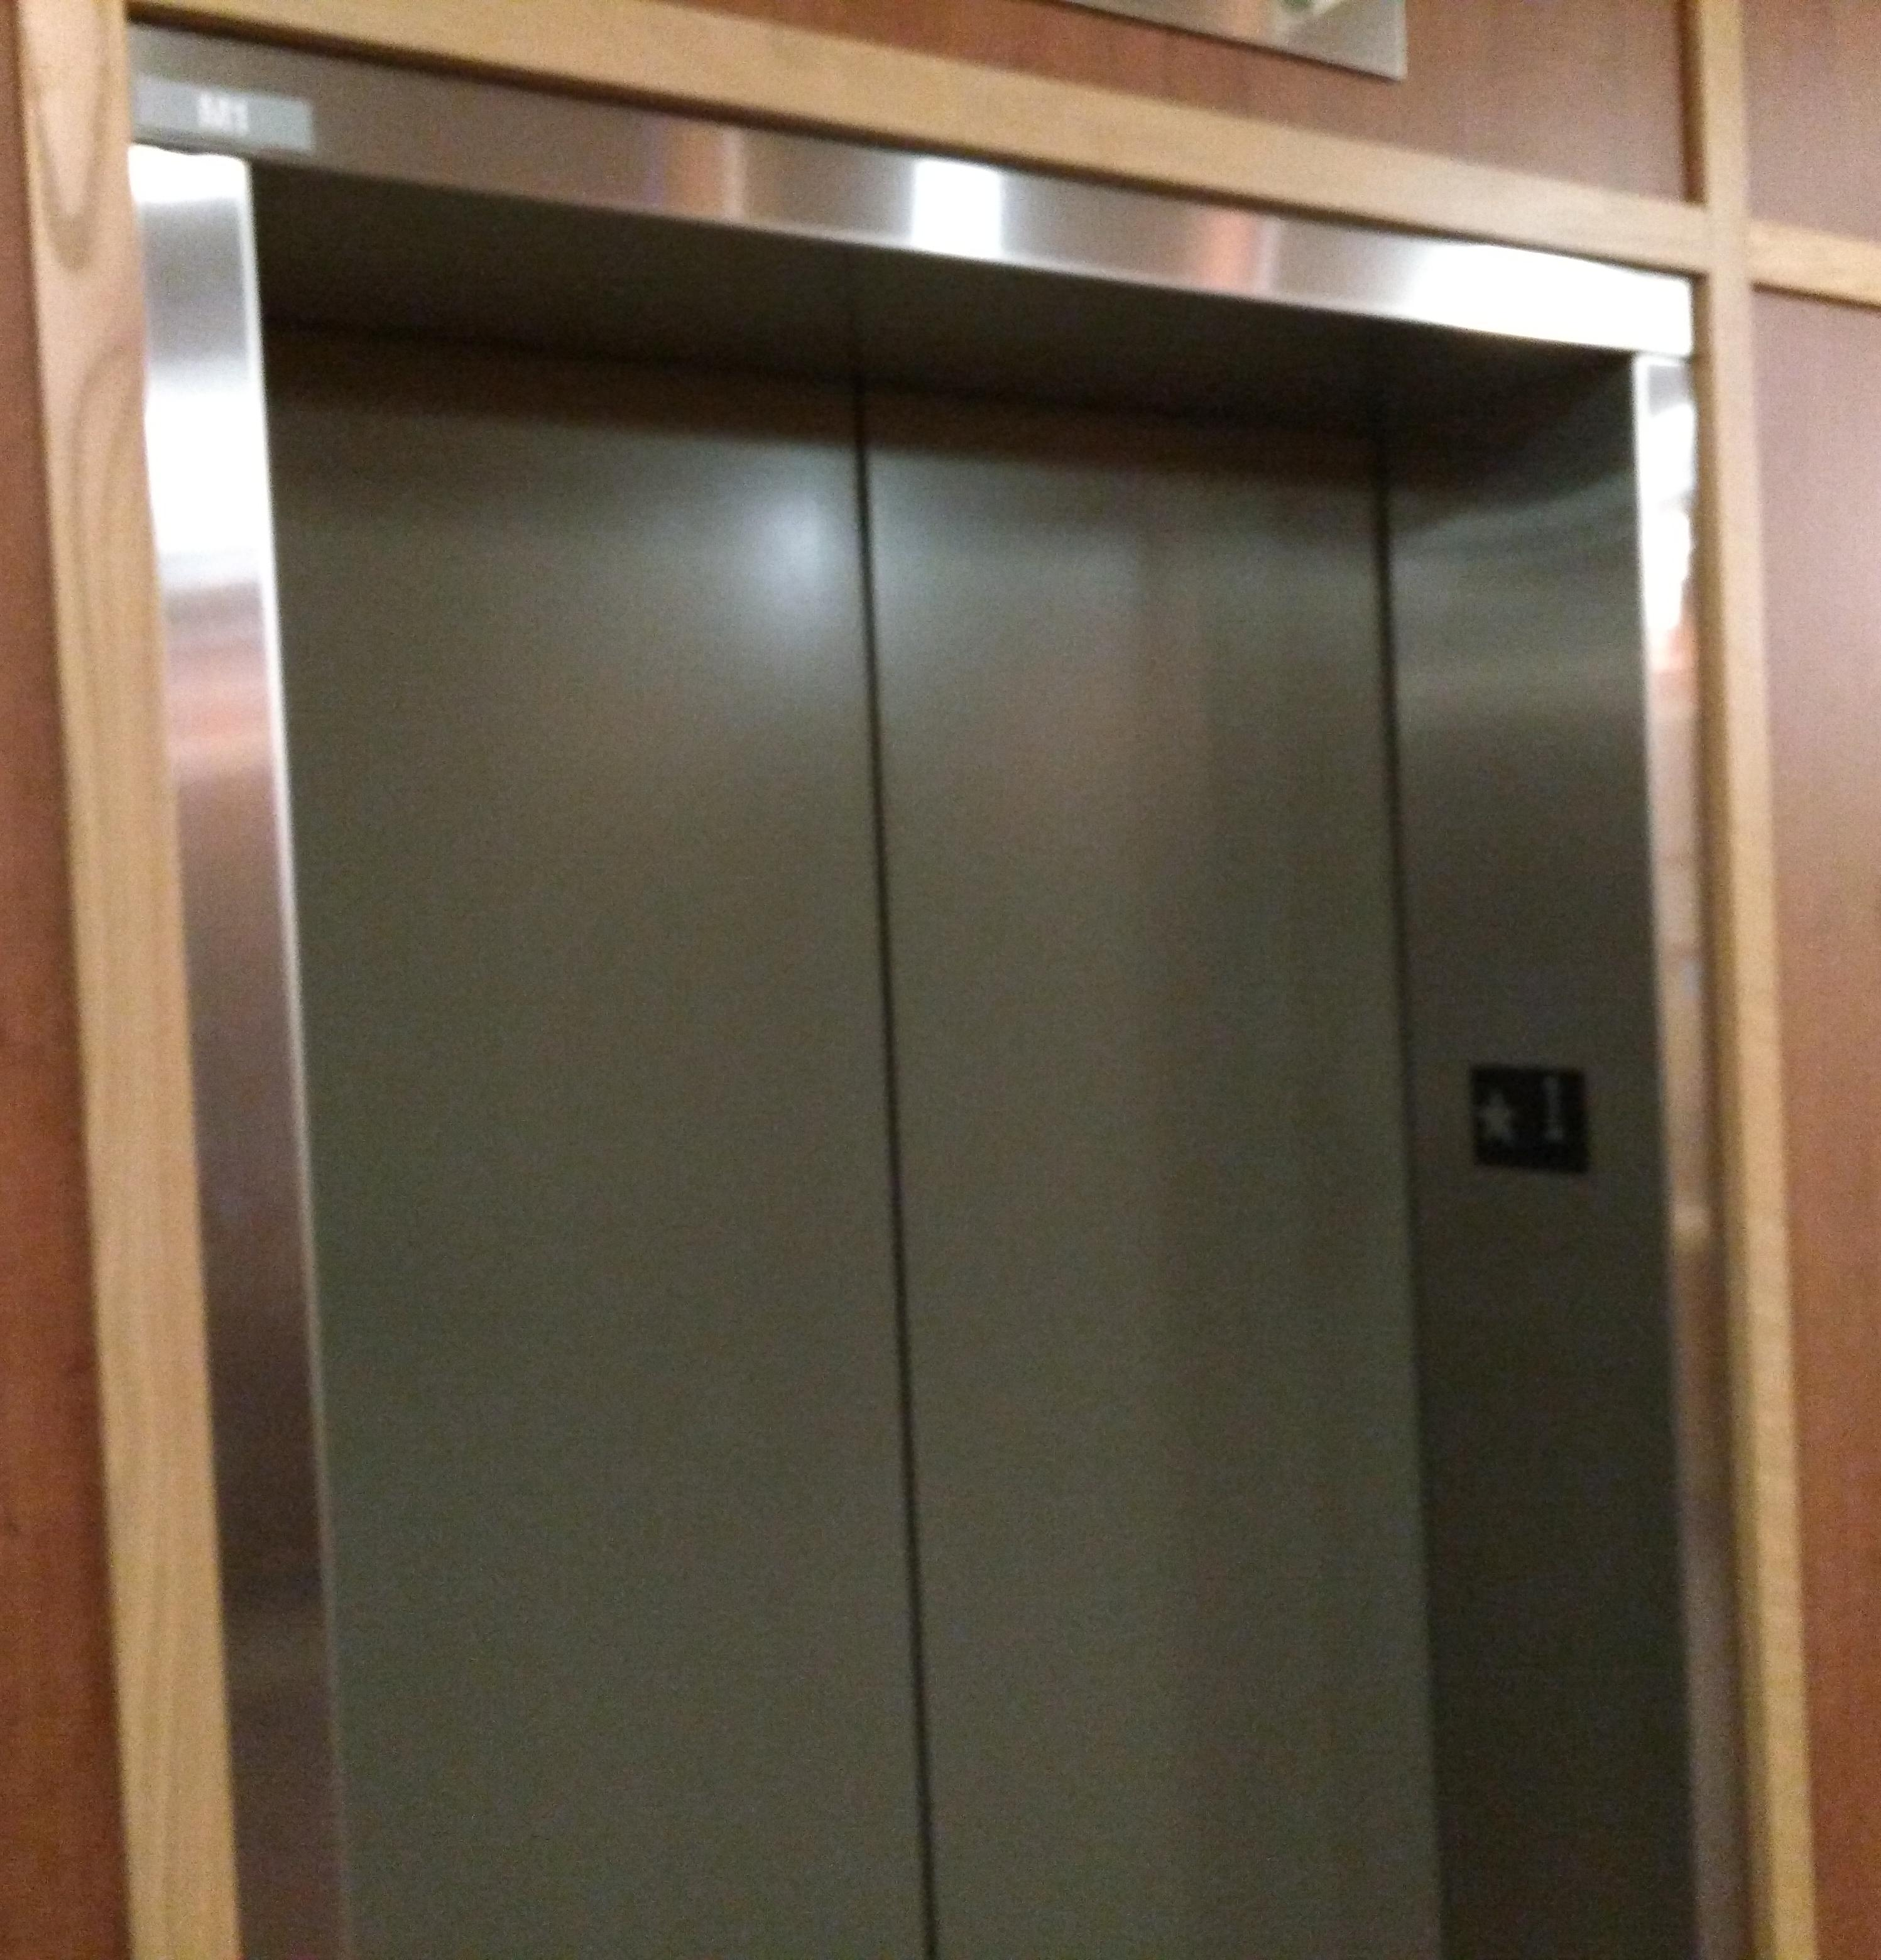door: (180, 159, 1689, 1958)
